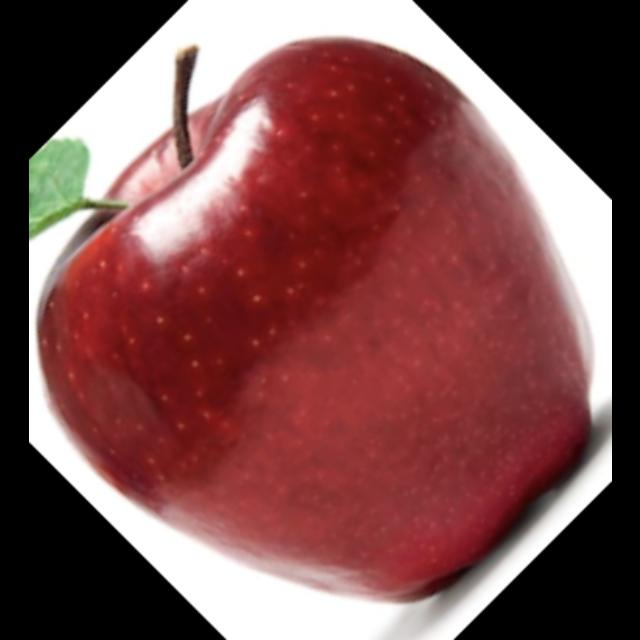Apel Segar: (47, 46, 583, 586)
